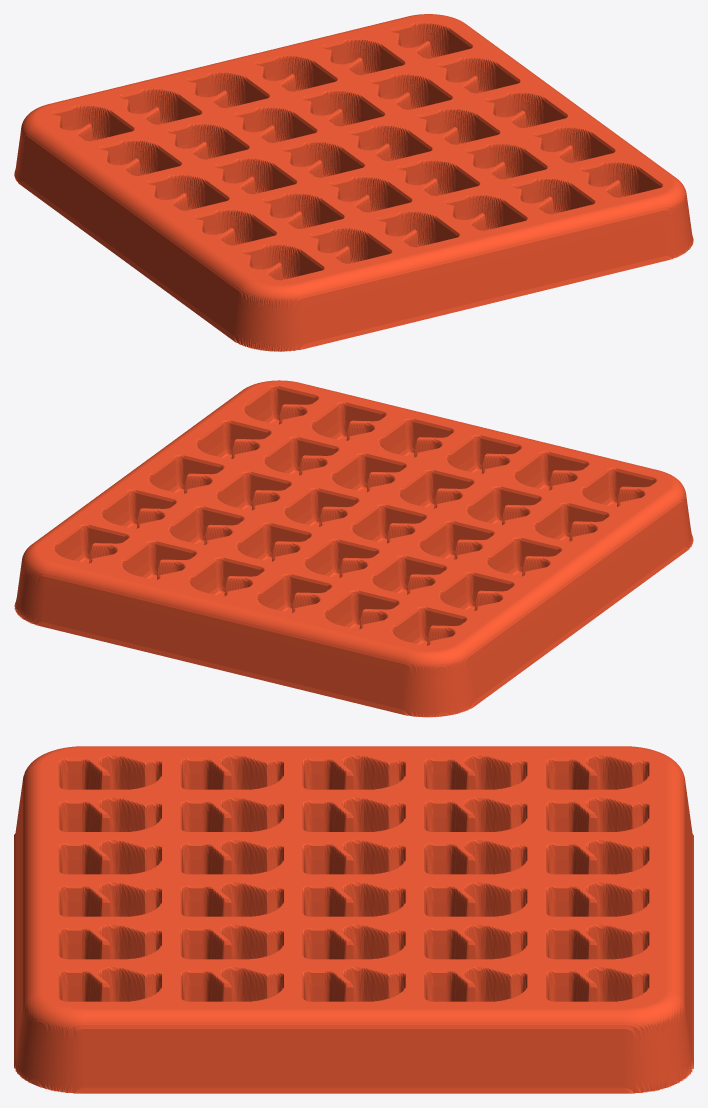
The model's file is mold.glb.
3 renders of one model, top to bottom at view 1: azimuth 30°, elevation 25°; view 2: azimuth 150°, elevation 25°; view 3: azimuth 270°, elevation 25°, orthographic. The views are drawn at different scales.
Visible parts, largest first — view 1: geometry_0; view 2: geometry_0; view 3: geometry_0.
Boxes of the visible parts, x1,y1,x2,y2 form: geometry_0: (14,14,693,351); geometry_0: (14,380,693,717); geometry_0: (14,746,693,1093).
Size of the model in its own units: 0.0872 by 0.0105 by 0.0882.
